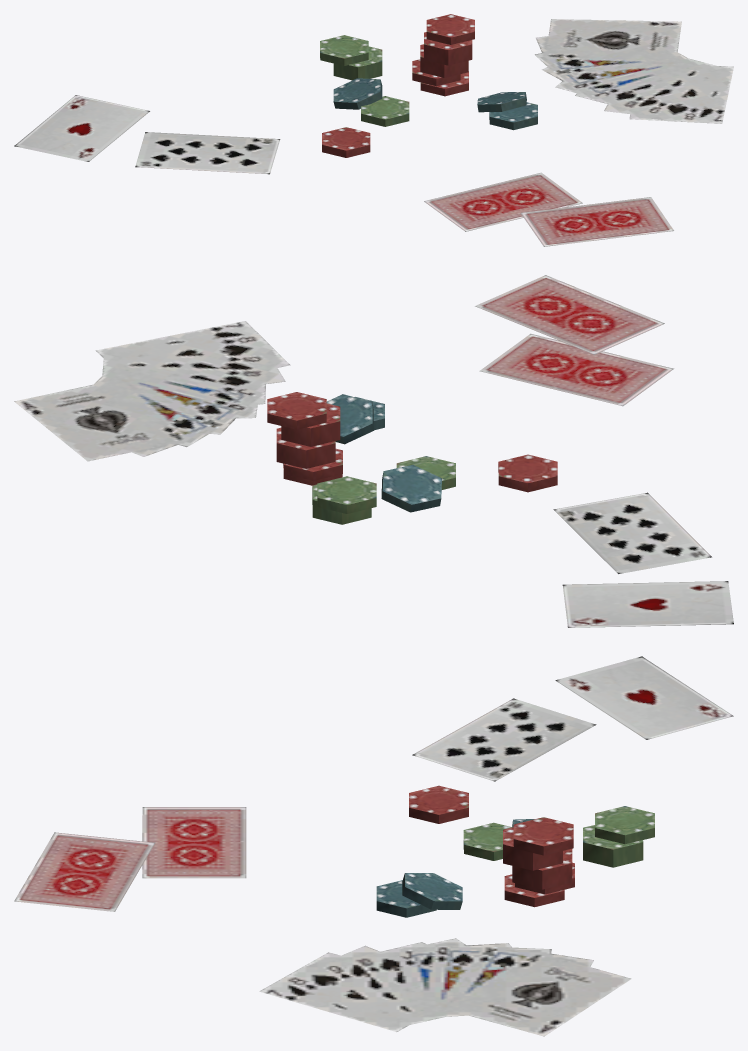
The model's file is bg_lut_lucastle_gameble01_sm_msj.FBX.
The picture shows the model from 3 angles, top to bottom: view 1: azimuth 30°, elevation 25°; view 2: azimuth 150°, elevation 25°; view 3: azimuth 270°, elevation 25°; orthographic projection. The views are drawn at different scales.
Visible parts, largest first — view 1: bg_lut_lucastle_gameble01_sm_msj; view 2: bg_lut_lucastle_gameble01_sm_msj; view 3: bg_lut_lucastle_gameble01_sm_msj.
Boxes of the visible parts, box(x1,y1,x2,y2) form: bg_lut_lucastle_gameble01_sm_msj: box(14, 14, 733, 246); bg_lut_lucastle_gameble01_sm_msj: box(14, 275, 733, 627); bg_lut_lucastle_gameble01_sm_msj: box(14, 656, 733, 1036).
Bounding box in the file's own units: 89.42 × 7.4 × 71.52.
